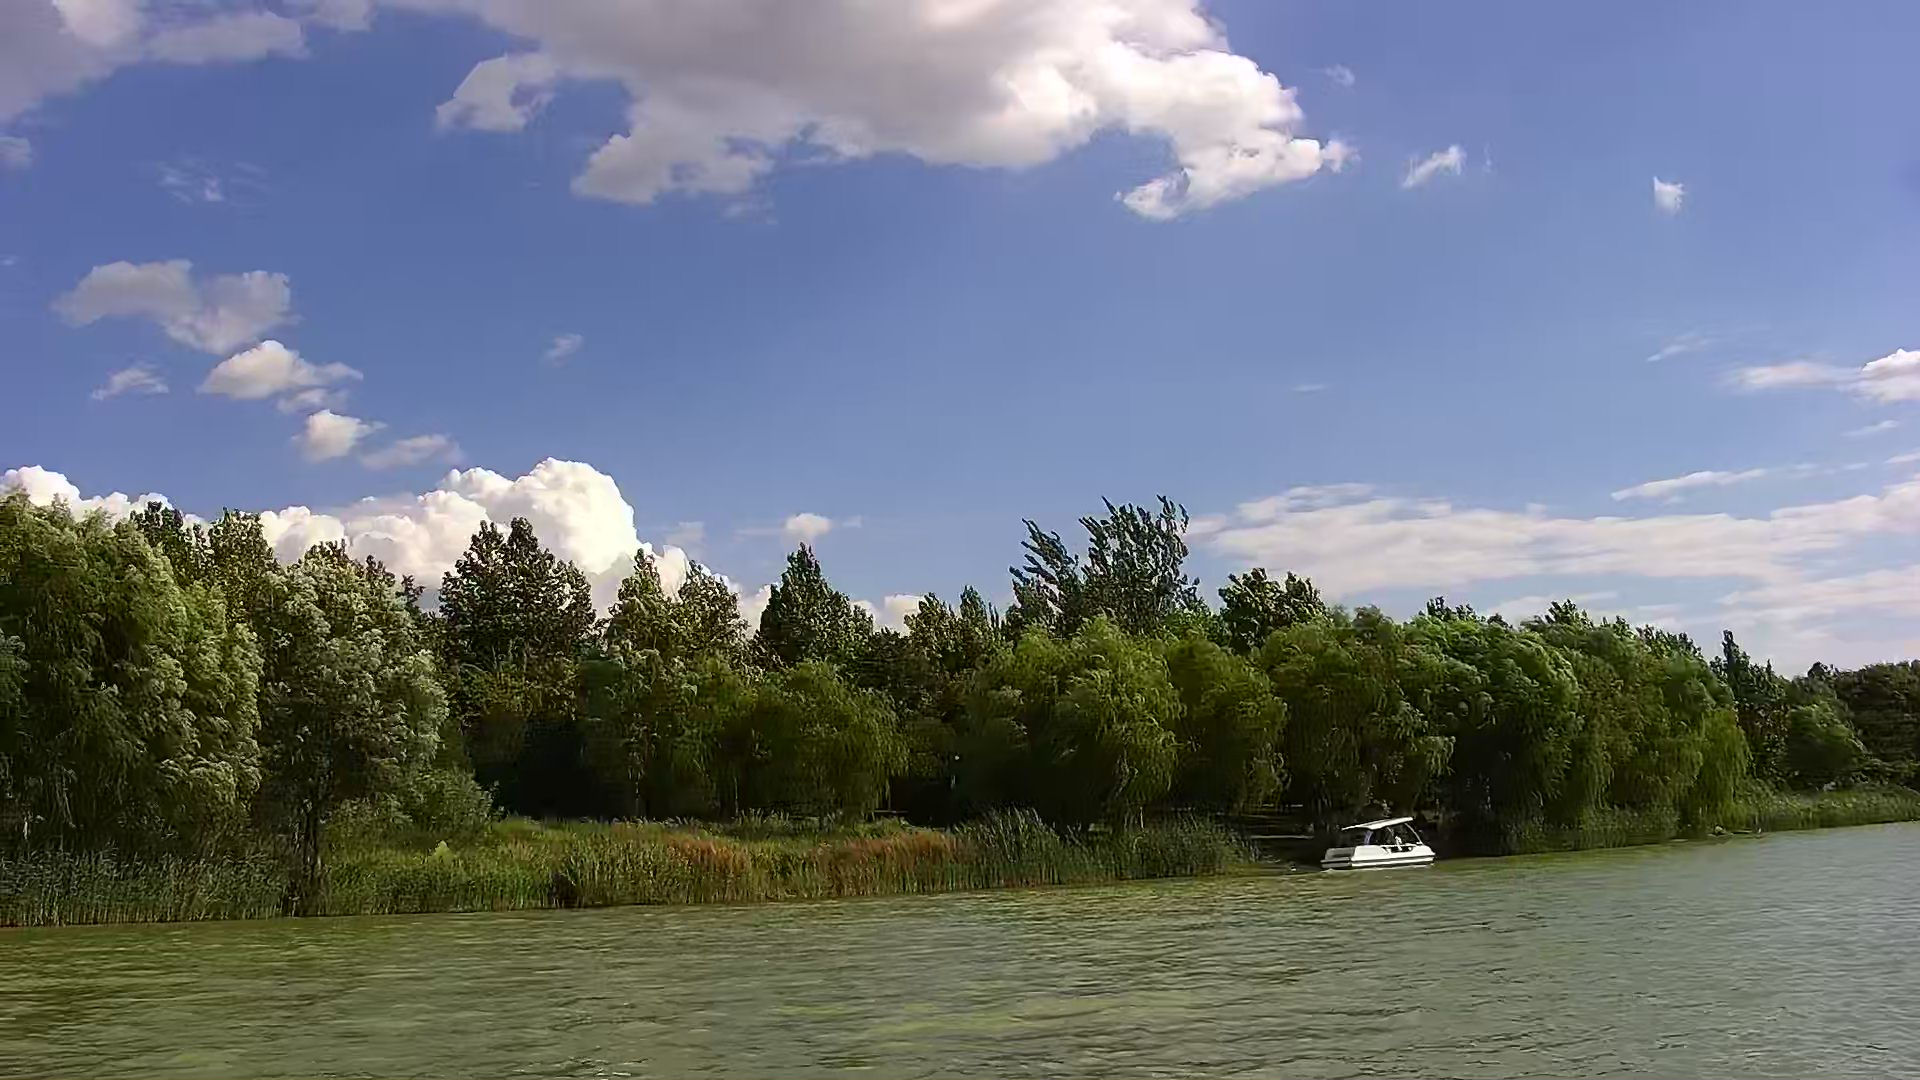boat: (1320, 815, 1440, 873)
